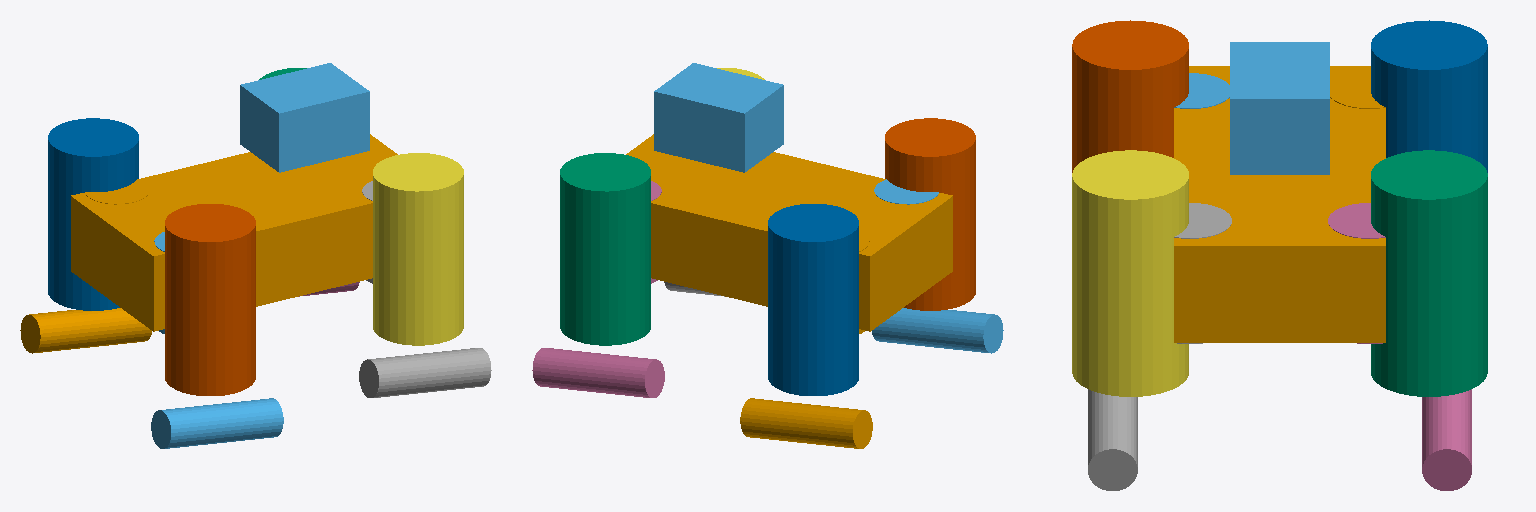
The robot description file, URDF, robot "robot":
<?xml version="1.0"?>
<?xml-model href="https://raw.githubusercontent.com/ros/urdfdom/master/xsd/urdf.xsd" ?>

<robot name="robot">
  <link name="base_link">
    <visual>
      <geometry>
        <box size="0.254 0.127 0.0635"/>
      </geometry>
    </visual>
    <inertial>
      <origin xyz="0.000 0.000 0.000" rpy ="0.000 0.000 0.000"/>
      <mass value="2.000"/>
      <inertia
        ixx="0.03562" ixy="0.00000" ixz="0.00000"
        iyy="0.04262" iyz="0.00000"
        izz="0.04508"/>
    </inertial>
    <collision>
      <origin xyz="0.000 0.000 0.015" rpy ="0.000 0.000 0.000"/>
      <geometry>
        <box size="0.260 0.160 0.090"/>
      </geometry>
    </collision>
  </link>

  <link name="lidar_link">
    <visual>
      <geometry>
        <box size="0.080 0.060 0.050"/>
      </geometry>
    </visual>
    <inertial>
      <origin xyz="0.000 0.000 0.000" rpy ="0.000 0.000 0.000"/>
      <mass value="0.050"/>
      <inertia
        ixx="0.00092" ixy="0.00000" ixz="0.00001"
        iyy="0.00094" iyz="0.00000"
        izz="0.00093"/>
    </inertial>
    <collision>
      <origin xyz="0.010 0.000 -0.015" rpy ="0.000 0.000 0.000"/>
      <geometry>
        <box size="0.080 0.060 0.050"/>
      </geometry>
    </collision>
  </link>

  <link name="hip_fl_ref">
    <visual>
      <geometry>
        <box size="0.002 0.002 0.002"/>
      </geometry>
    </visual>
    <inertial>
      <origin xyz="0.000 0.000 0.000" rpy ="0.000 0.000 0.000"/>
      <mass value="0.000"/>
      <inertia
        ixx="0.00000" ixy="0.00000" ixz="0.00000"
        iyy="0.00000" iyz="0.00000"
        izz="0.00000"/>
    </inertial>
    <collision>
      <origin xyz="0.000 0.000 0.000" rpy ="0.000 0.000 0.000"/>
      <geometry>
        <box size="0.002 0.002 0.002"/>
      </geometry>
    </collision>
  </link>

  <link name="hip_fr_ref">
    <visual>
      <geometry>
        <box size="0.002 0.002 0.002"/>
      </geometry>
    </visual>
    <inertial>
      <origin xyz="0.000 0.000 0.000" rpy ="0.000 0.000 0.000"/>
      <mass value="0.000"/>
      <inertia
        ixx="0.00000" ixy="0.00000" ixz="0.00000"
        iyy="0.00000" iyz="0.00000"
        izz="0.00000"/>
    </inertial>
    <collision>
      <origin xyz="0.000 0.000 0.000" rpy ="0.000 0.000 0.000"/>
      <geometry>
        <box size="0.002 0.002 0.002"/>
      </geometry>
    </collision>
  </link>

  <link name="hip_bl_ref">
    <visual>
      <geometry>
        <box size="0.002 0.002 0.002"/>
      </geometry>
    </visual>
    <inertial>
      <origin xyz="0.000 0.000 0.000" rpy ="0.000 0.000 0.000"/>
      <mass value="0.000"/>
      <inertia
        ixx="0.00000" ixy="0.00000" ixz="0.00000"
        iyy="0.00000" iyz="0.00000"
        izz="0.00000"/>
    </inertial>
    <collision>
      <origin xyz="0.000 0.000 0.000" rpy ="0.000 0.000 0.000"/>
      <geometry>
        <box size="0.002 0.002 0.002"/>
      </geometry>
    </collision>
  </link>

  <link name="hip_br_ref">
    <visual>
      <geometry>
        <box size="0.002 0.002 0.002"/>
      </geometry>
    </visual>
    <inertial>
      <origin xyz="0.000 0.000 0.000" rpy ="0.000 0.000 0.000"/>
      <mass value="0.000"/>
      <inertia
        ixx="0.00000" ixy="0.00000" ixz="0.00000"
        iyy="0.00000" iyz="0.00000"
        izz="0.00000"/>
    </inertial>
    <collision>
      <origin xyz="0.000 0.000 0.000" rpy ="0.000 0.000 0.000"/>
      <geometry>
        <box size="0.002 0.002 0.002"/>
      </geometry>
    </collision>
  </link>

  <link name="hip_fl_link">
    <visual>
      <geometry>
        <cylinder radius="0.025" length="0.070"/>
      </geometry>
    </visual>
    <inertial>
      <origin xyz="0.000 0.000 0.000" rpy ="0.000 0.000 0.000"/>
      <mass value="0.233"/>
      <inertia
        ixx="0.00216" ixy="-0.00001" ixz="0.00001"
        iyy="0.00216" iyz="0.00001"
        izz="0.00211"/>
    </inertial>
    <collision>
      <origin xyz="-0.005 -0.005 0.005" rpy ="0.000 0.000 0.000"/>
      <geometry>
        <cylinder radius="0.025" length="0.070"/>
      </geometry>
    </collision>
  </link>

  <link name="hip_fr_link">
    <visual>
      <geometry>
        <cylinder radius="0.025" length="0.070"/>
      </geometry>
    </visual>
    <inertial>
      <origin xyz="0.000 0.000 0.000" rpy ="0.000 0.000 0.000"/>
      <mass value="0.233"/>
      <inertia
        ixx="0.00216" ixy="0.00001" ixz="0.00001"
        iyy="0.00216" iyz="-0.00001"
        izz="0.00211"/>
    </inertial>
    <collision>
      <origin xyz="-0.005 0.005 0.005" rpy ="0.000 0.000 0.000"/>
      <geometry>
        <cylinder radius="0.025" length="0.070"/>
      </geometry>
    </collision>
  </link>

  <link name="hip_bl_link">
    <visual>
      <geometry>
        <cylinder radius="0.025" length="0.070"/>
      </geometry>
    </visual>
    <inertial>
      <origin xyz="0.000 0.000 0.000" rpy ="0.000 0.000 0.000"/>
      <mass value="0.233"/>
      <inertia
        ixx="0.00216" ixy="0.00001" ixz="-0.00001"
        iyy="0.00216" iyz="0.00001"
        izz="0.00211"/>
    </inertial>
    <collision>
      <origin xyz="0.005 -0.005 0.005" rpy ="0.000 0.000 0.000"/>
      <geometry>
        <cylinder radius="0.025" length="0.070"/>
      </geometry>
    </collision>
  </link>

  <link name="hip_br_link">
    <visual>
      <geometry>
        <cylinder radius="0.025" length="0.070"/>
      </geometry>
    </visual>
    <inertial>
      <origin xyz="0.000 0.000 0.000" rpy ="0.000 0.000 0.000"/>
      <mass value="0.233"/>
      <inertia
        ixx="0.00216" ixy="-0.00001" ixz="-0.00001"
        iyy="0.00216" iyz="-0.00001"
        izz="0.00211"/>
    </inertial>
    <collision>
      <origin xyz="0.005 0.005 0.005" rpy ="0.000 0.000 0.000"/>
      <geometry>
        <cylinder radius="0.025" length="0.070"/>
      </geometry>
    </collision>
  </link>

  <link name="femur_fl_link">
    <visual>
      <geometry>
        <cylinder radius="0.035" length="0.130"/>
      </geometry>
    </visual>
    <inertial>
      <origin xyz="0.000 0.000 0.000" rpy ="0.000 0.000 0.000"/>
      <mass value="0.084"/>
      <inertia
        ixx="0.00414" ixy="0.00000" ixz="0.00000"
        iyy="0.00410" iyz="0.00006"
        izz="0.00386"/>
    </inertial>
    <collision>
      <origin xyz="0.000 0.015 -0.045" rpy ="0.000 0.000 0.000"/>
      <geometry>
        <cylinder radius="0.035" length="0.130"/>
      </geometry>
    </collision>
  </link>

  <link name="femur_fr_link">
    <visual>
      <geometry>
        <cylinder radius="0.035" length="0.130"/>
      </geometry>
    </visual>
    <inertial>
      <origin xyz="0.000 0.000 0.000" rpy ="0.000 0.000 0.000"/>
      <mass value="0.084"/>
      <inertia
        ixx="0.00414" ixy="0.00000" ixz="0.00000"
        iyy="0.00410" iyz="-0.00006"
        izz="0.00386"/>
    </inertial>
    <collision>
      <origin xyz="0.000 -0.015 -0.045" rpy ="0.000 0.000 0.000"/>
      <geometry>
        <cylinder radius="0.035" length="0.130"/>
      </geometry>
    </collision>
  </link>

  <link name="femur_bl_link">
    <visual>
      <geometry>
        <cylinder radius="0.035" length="0.130"/>
      </geometry>
    </visual>
    <inertial>
      <origin xyz="0.000 0.000 0.000" rpy ="0.000 0.000 0.000"/>
      <mass value="0.084"/>
      <inertia
        ixx="0.00414" ixy="0.00000" ixz="0.00000"
        iyy="0.00410" iyz="0.00006"
        izz="0.00386"/>
    </inertial>
    <collision>
      <origin xyz="0.000 0.015 -0.045" rpy ="0.000 0.000 0.000"/>
      <geometry>
        <cylinder radius="0.035" length="0.130"/>
      </geometry>
    </collision>
  </link>

  <link name="femur_br_link">
    <visual>
      <geometry>
        <cylinder radius="0.035" length="0.130"/>
      </geometry>
    </visual>
    <inertial>
      <origin xyz="0.000 0.000 0.000" rpy ="0.000 0.000 0.000"/>
      <mass value="0.084"/>
      <inertia
        ixx="0.00414" ixy="0.00000" ixz="0.00000"
        iyy="0.00410" iyz="-0.00006"
        izz="0.00386"/>
    </inertial>
    <collision>
      <origin xyz="0.000 -0.015 -0.045" rpy ="0.000 0.000 0.000"/>
      <geometry>
        <cylinder radius="0.035" length="0.130"/>
      </geometry>
    </collision>
  </link>

  <link name="tibia_fl_link">
    <visual>
      <geometry>
        <cylinder radius="0.015" length="0.100"/>
      </geometry>
    </visual>
    <inertial>
      <origin xyz="0.000 0.000 0.000" rpy ="0.000 0.000 0.000"/>
      <mass value="0.034"/>
      <inertia
        ixx="0.00159" ixy="0.00000" ixz="-0.00001"
        iyy="0.00159" iyz="0.00000"
        izz="0.00147"/>
    </inertial>
  </link>

  <link name="tibia_fr_link">
    <visual>
      <geometry>
        <cylinder radius="0.015" length="0.100"/>
      </geometry>
    </visual>
    <inertial>
      <origin xyz="0.000 0.000 0.000" rpy ="0.000 0.000 0.000"/>
      <mass value="0.034"/>
      <inertia
        ixx="0.00159" ixy="0.00000" ixz="-0.00001"
        iyy="0.00159" iyz="0.00000"
        izz="0.00147"/>
    </inertial>
  </link>

  <link name="tibia_bl_link">
    <visual>
      <geometry>
        <cylinder radius="0.015" length="0.100"/>
      </geometry>
    </visual>
    <inertial>
      <origin xyz="0.000 0.000 0.000" rpy ="0.000 0.000 0.000"/>
      <mass value="0.034"/>
      <inertia
        ixx="0.00159" ixy="0.00000" ixz="-0.00001"
        iyy="0.00159" iyz="0.00000"
        izz="0.00147"/>
    </inertial>
  </link>

  <link name="tibia_br_link">
    <visual>
      <geometry>
        <cylinder radius="0.015" length="0.100"/>
      </geometry>
    </visual>
    <inertial>
      <origin xyz="0.000 0.000 0.000" rpy ="0.000 0.000 0.000"/>
      <mass value="0.034"/>
      <inertia
        ixx="0.00159" ixy="0.00000" ixz="-0.00001"
        iyy="0.00159" iyz="0.00000"
        izz="0.00147"/>
    </inertial>
  </link>


  <joint name="lidar" type="fixed" dont_collapse="true">
    <parent link="base_link"/>
    <child  link="lidar_link"/>
    <origin xyz="0.04312 0.00000 0.08341"/>
  </joint>

  <joint name="fl_ref" type="fixed" dont_collapse="true">
    <parent link="base_link"/>
    <child  link="hip_fl_ref"/>
    <origin xyz="0.09170 0.05355 -0.00279"/>
  </joint>

  <joint name="fr_ref" type="fixed" dont_collapse="true">
    <parent link="base_link"/>
    <child  link="hip_fr_ref"/>
    <origin xyz="0.09170 -0.05355 -0.00279"/>
  </joint>

  <joint name="bl_ref" type="fixed" dont_collapse="true">
    <parent link="base_link"/>
    <child  link="hip_bl_ref"/>
    <origin xyz="-0.09170 0.05355 -0.00279"/>
  </joint>

  <joint name="br_ref" type="fixed" dont_collapse="true">
    <parent link="base_link"/>
    <child  link="hip_br_ref"/>
    <origin xyz="-0.09170 -0.05355 -0.00279"/>
  </joint>

  <joint name="hip1_fl" type="revolute">
    <axis xyz="1.000 0.000 0.000"/>
    <limit effort="80.00000" lower="-0.78540" upper="1.57080" velocity="1.04720"/>
    <parent link="hip_fl_ref"/>
    <child  link="hip_fl_link"/>
    <origin xyz="0.00000 0.00000 0.00000"/>
  </joint>

  <joint name="hip1_fr" type="revolute">
    <axis xyz="1.000 0.000 0.000"/>
    <limit effort="80.00000" lower="-0.78540" upper="1.57080" velocity="1.04720"/>
    <parent link="hip_fr_ref"/>
    <child  link="hip_fr_link"/>
    <origin xyz="0.00000 0.00000 0.00000"/>
  </joint>

  <joint name="hip1_bl" type="revolute">
    <axis xyz="1.000 0.000 0.000"/>
    <limit effort="80.00000" lower="-0.78540" upper="1.57080" velocity="1.04720"/>
    <parent link="hip_bl_ref"/>
    <child  link="hip_bl_link"/>
    <origin xyz="0.00000 0.00000 0.00000"/>
  </joint>

  <joint name="hip1_br" type="revolute">
    <axis xyz="1.000 0.000 0.000"/>
    <limit effort="80.00000" lower="-0.78540" upper="1.57080" velocity="1.04720"/>
    <parent link="hip_br_ref"/>
    <child  link="hip_br_link"/>
    <origin xyz="0.00000 0.00000 0.00000"/>
  </joint>

  <joint name="shoulder_fl" type="revolute">
    <axis xyz="0.000 1.000 0.000"/>
    <limit effort="80.00000" lower="0.00000" upper="2.35619" velocity="1.04720"/>
    <parent link="hip_fl_link"/>
    <child  link="femur_fl_link"/>
    <origin xyz="0.00000 0.03559 0.00000"/>
  </joint>

  <joint name="shoulder_fr" type="revolute">
    <axis xyz="0.000 1.000 0.000"/>
    <limit effort="80.00000" lower="0.00000" upper="2.35619" velocity="1.04720"/>
    <parent link="hip_fr_link"/>
    <child  link="femur_fr_link"/>
    <origin xyz="0.00000 -0.03559 0.00000"/>
  </joint>

  <joint name="shoulder_bl" type="revolute">
    <axis xyz="0.000 1.000 0.000"/>
    <limit effort="80.00000" lower="0.00000" upper="2.35619" velocity="1.04720"/>
    <parent link="hip_bl_link"/>
    <child  link="femur_bl_link"/>
    <origin xyz="0.00000 0.03559 0.00000"/>
  </joint>

  <joint name="shoulder_br" type="revolute">
    <axis xyz="0.000 1.000 0.000"/>
    <limit effort="80.00000" lower="0.00000" upper="2.35619" velocity="1.04720"/>
    <parent link="hip_br_link"/>
    <child  link="femur_br_link"/>
    <origin xyz="0.00000 -0.03559 0.00000"/>
  </joint>

  <joint name="knee_fl" type="revolute">
    <axis xyz="0.000 1.000 0.000"/>
    <limit effort="80.00000" lower="-2.35619" upper="-0.52360" velocity="1.04720"/>
    <parent link="femur_fl_link"/>
    <child  link="tibia_fl_link"/>
    <origin xyz="0.00000 0.01071 -0.09996"/>
  </joint>

  <joint name="knee_fr" type="revolute">
    <axis xyz="0.000 1.000 0.000"/>
    <limit effort="80.00000" lower="-2.35619" upper="-0.52360" velocity="1.04720"/>
    <parent link="femur_fr_link"/>
    <child  link="tibia_fr_link"/>
    <origin xyz="0.00000 -0.01071 -0.09996"/>
  </joint>

  <joint name="knee_bl" type="revolute">
    <axis xyz="0.000 1.000 0.000"/>
    <limit effort="80.00000" lower="-2.35619" upper="-0.52360" velocity="1.04720"/>
    <parent link="femur_bl_link"/>
    <child  link="tibia_bl_link"/>
    <origin xyz="0.00000 0.01071 -0.09996"/>
  </joint>

  <joint name="knee_br" type="revolute">
    <axis xyz="0.000 1.000 0.000"/>
    <limit effort="80.00000" lower="-2.35619" upper="-0.52360" velocity="1.04720"/>
    <parent link="femur_br_link"/>
    <child  link="tibia_br_link"/>
    <origin xyz="0.00000 -0.01071 -0.09996"/>
  </joint>


</robot>

--- Render facts (derived) ---
3 views of the same robot in one strip: view 1: azimuth 30°, elevation 25°; view 2: azimuth 150°, elevation 25°; view 3: azimuth 270°, elevation 25° (orthographic).
Model robot with 18 links and 17 joints (12 revolute, 5 fixed), rooted at base_link, posed joints at zero except 4 at the middle of their limits (knee_fl = -1.44, knee_fr = -1.44, knee_bl = -1.44, knee_br = -1.44).
Links seen in each view (by area): view 1: base_link, femur_fr_link, femur_br_link, lidar_link, femur_bl_link, tibia_br_link, tibia_fr_link, tibia_bl_link, hip_bl_link; view 2: base_link, femur_fl_link, femur_bl_link, lidar_link, femur_br_link, tibia_bl_link, tibia_fl_link, tibia_br_link, hip_br_link; view 3: base_link, femur_fl_link, femur_fr_link, femur_bl_link, femur_br_link, lidar_link, tibia_fl_link, tibia_fr_link, hip_fl_link, hip_fr_link, hip_bl_link, hip_br_link.
Link boxes in pixels (<box>): base_link: <box>71,134,397,331</box>; femur_fr_link: <box>373,153,463,345</box>; femur_br_link: <box>165,204,255,395</box>; lidar_link: <box>240,63,369,172</box>; femur_bl_link: <box>48,118,138,310</box>; tibia_br_link: <box>151,398,283,448</box>; tibia_fr_link: <box>359,348,491,397</box>; tibia_bl_link: <box>20,308,151,353</box>; hip_bl_link: <box>85,179,149,204</box>; base_link: <box>626,134,952,331</box>; femur_fl_link: <box>560,153,650,345</box>; femur_bl_link: <box>768,204,858,395</box>; lidar_link: <box>654,63,783,172</box>; femur_br_link: <box>885,118,975,310</box>; tibia_bl_link: <box>740,398,872,448</box>; tibia_fl_link: <box>532,348,664,397</box>; tibia_br_link: <box>872,308,1003,353</box>; hip_br_link: <box>874,179,938,204</box>; base_link: <box>1174,66,1385,342</box>; femur_fl_link: <box>1371,150,1487,396</box>; femur_fr_link: <box>1072,150,1188,396</box>; femur_bl_link: <box>1371,20,1487,172</box>; femur_br_link: <box>1072,20,1188,172</box>; lidar_link: <box>1230,42,1329,174</box>; tibia_fl_link: <box>1422,389,1471,490</box>; tibia_fr_link: <box>1088,389,1137,490</box>; hip_fl_link: <box>1328,203,1385,343</box>; hip_fr_link: <box>1174,203,1231,343</box>; hip_bl_link: <box>1330,73,1385,108</box>; hip_br_link: <box>1174,73,1229,108</box>.
Size in the robot's own frame: 0.2865 by 0.2483 by 0.2326 metres.
Geometry: primitives only (box / cylinder / sphere), no mesh files.
